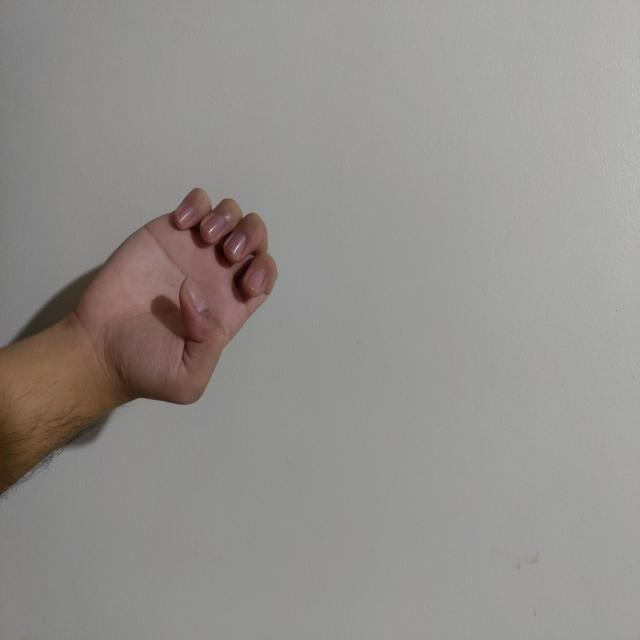E: (188, 360, 406, 563)
